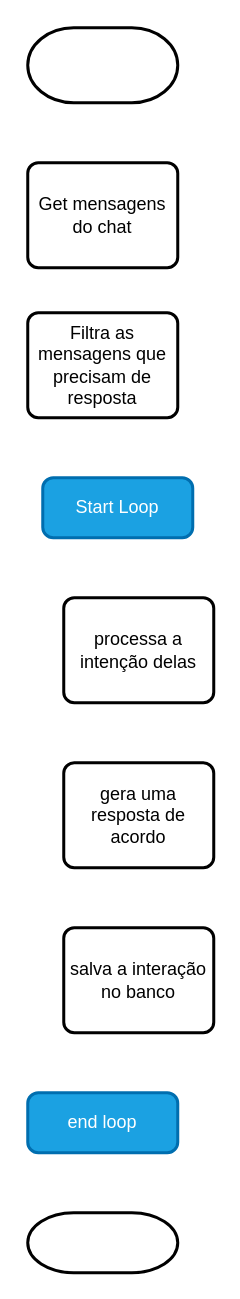
This 240x1299 diagram has some shape labels left out. Here are the shapes that lost their labels. From the top down, the centre of each, then its label:
At (x=102, y=65): "start".
At (x=102, y=1242): "end".
